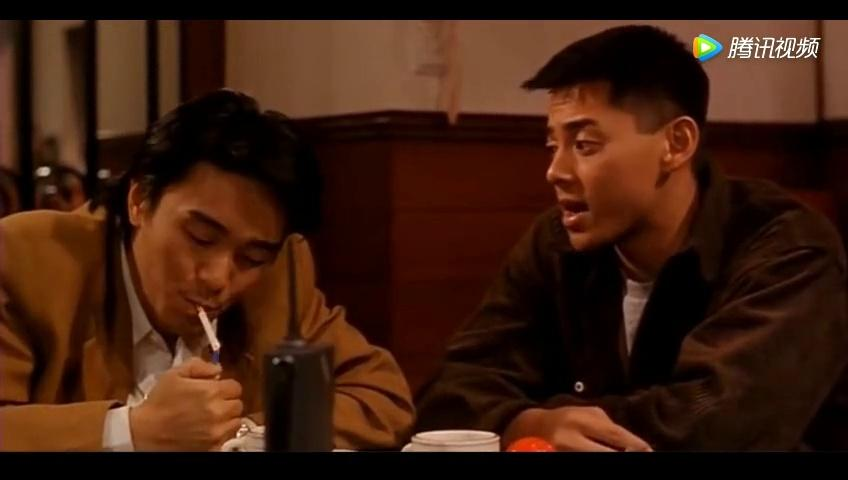smoke: (188, 301, 225, 352)
